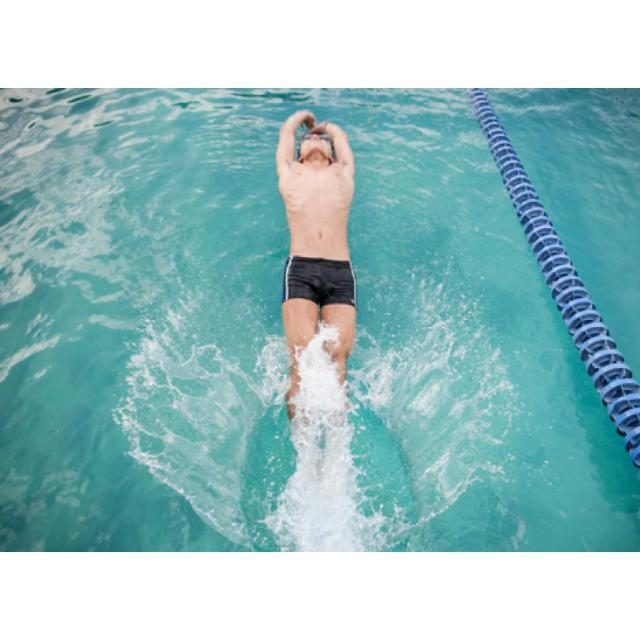human: (275, 107, 353, 430)
